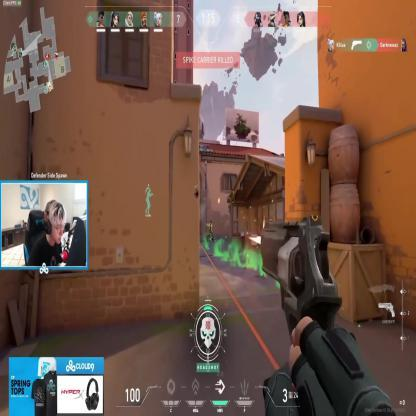enemy: (207, 220, 214, 242)
enemy_head: (210, 220, 212, 225)
